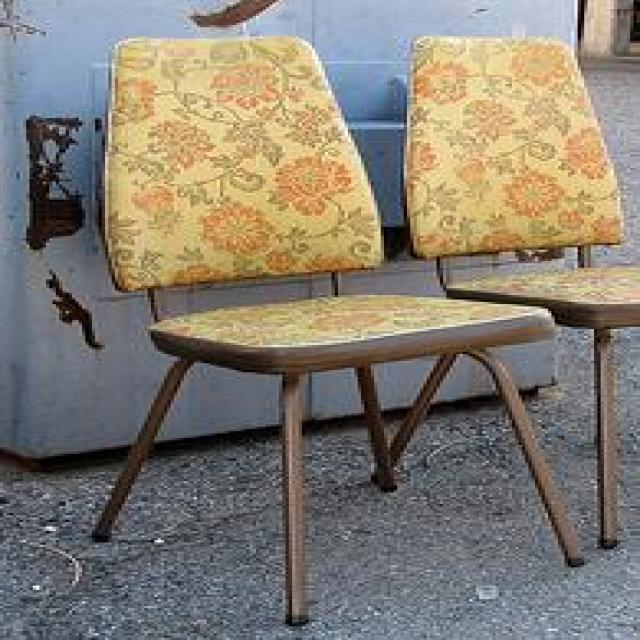chair: (89, 34, 584, 624), (384, 34, 637, 549)
